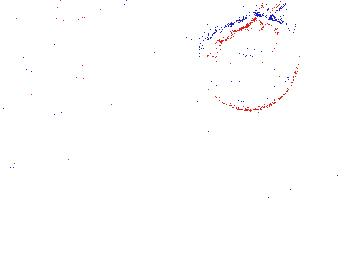moon jellyfish: (197, 15, 300, 110), (15, 19, 122, 86), (87, 1, 192, 48), (1, 80, 31, 140)
